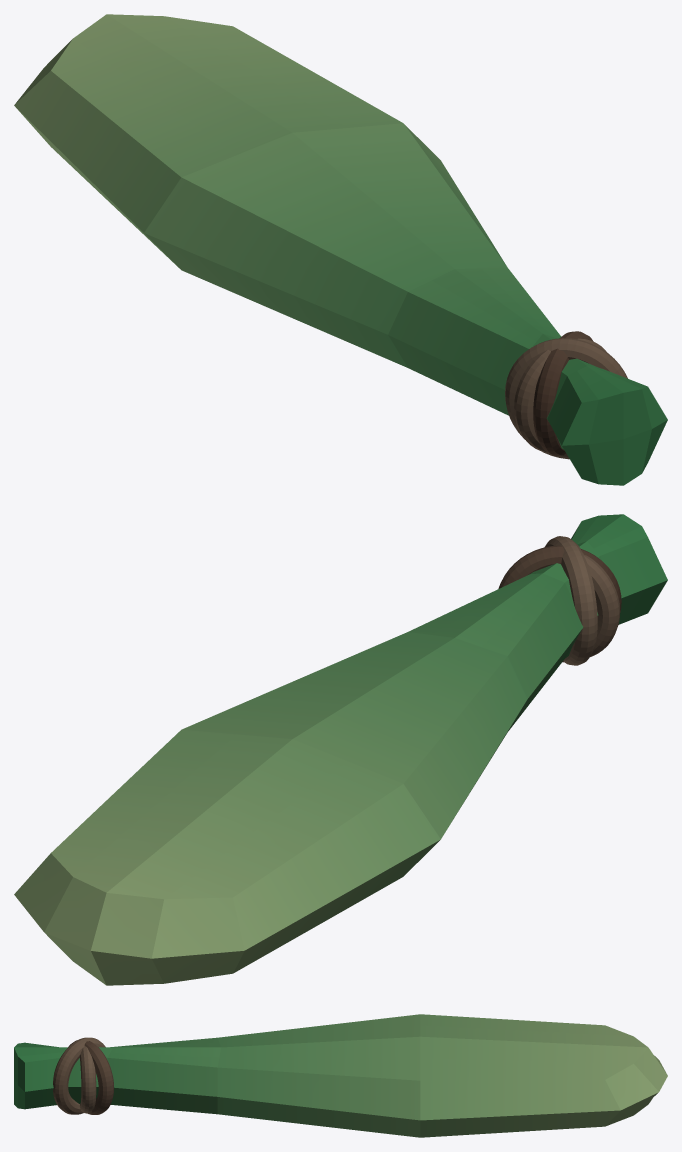
File: club.fbx
3 views of the same model, one above another, from view 1: azimuth 30°, elevation 25°; view 2: azimuth 150°, elevation 25°; view 3: azimuth 270°, elevation 25° (orthographic). The views are drawn at different scales.
Visible parts, largest first — view 1: Cube.001, Torus.002, Torus, Torus.001; view 2: Cube.001, Torus.002, Torus.001, Torus; view 3: Cube.001, Torus.002, Torus, Torus.001.
Part boxes in pixels (x1=…): Cube.001: x1=14, y1=14, x2=667, y2=485; Torus.002: x1=505, y1=338, x2=627, y2=459; Torus: x1=533, y1=331, x2=593, y2=455; Torus.001: x1=514, y1=338, x2=606, y2=452; Cube.001: x1=14, y1=514, x2=667, y2=985; Torus.002: x1=544, y1=536, x2=597, y2=665; Torus.001: x1=584, y1=555, x2=620, y2=656; Torus: x1=498, y1=545, x2=621, y2=662; Cube.001: x1=14, y1=1014, x2=667, y2=1137; Torus.002: x1=53, y1=1037, x2=105, y2=1114; Torus: x1=68, y1=1040, x2=113, y2=1114; Torus.001: x1=79, y1=1046, x2=96, y2=1113.
Size of the model in its own units: 154 by 63.55 by 480.
